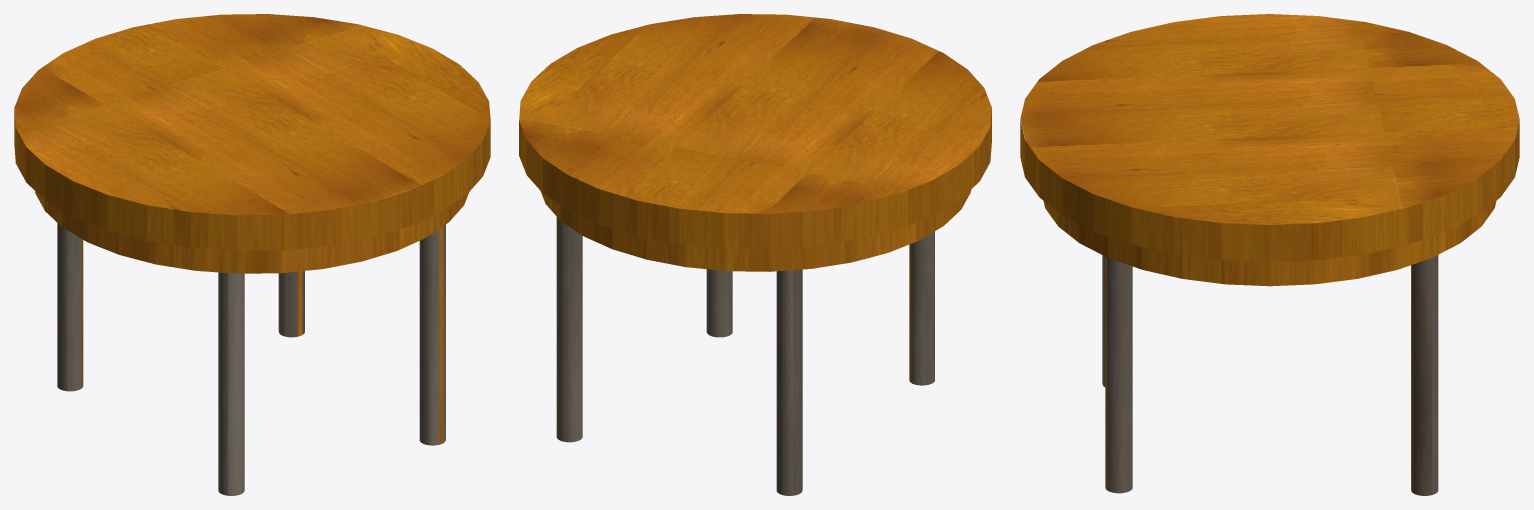
Rendered from farber stool desk.fbx.
3 views of the same model, side by side, from view 1: azimuth 30°, elevation 25°; view 2: azimuth 150°, elevation 25°; view 3: azimuth 270°, elevation 25° (orthographic). The views are drawn at different scales.
Visible parts, largest first — view 1: Cylinder.002; view 2: Cylinder.002; view 3: Cylinder.002.
Boxes of the visible parts, box(x1,y1,x2,y2) form: Cylinder.002: box(14, 14, 490, 495); Cylinder.002: box(519, 14, 991, 495); Cylinder.002: box(1020, 14, 1519, 495).
Bounding box in the file's own units: 420 × 290 × 420.
Materials: 1 (1 with a texture image).
